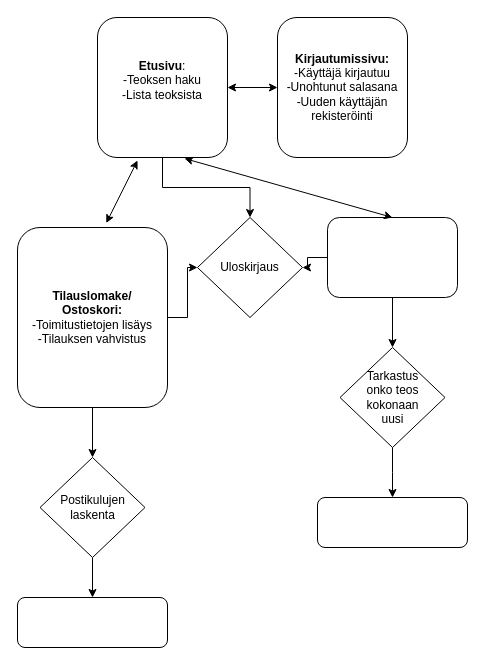
This 485x665 diagram has some shape labels left out. Here are the shapes that lost their labels. From the top down, the centre of each, then its label:
At pixel 392 257: "Teoksen lisäyslomake: tietokantaan D1 & D2".
At pixel 392 522: "Teos lisätty/Virhe".
At pixel 92 622: "Tilaus vahvistettu/Virhe".
